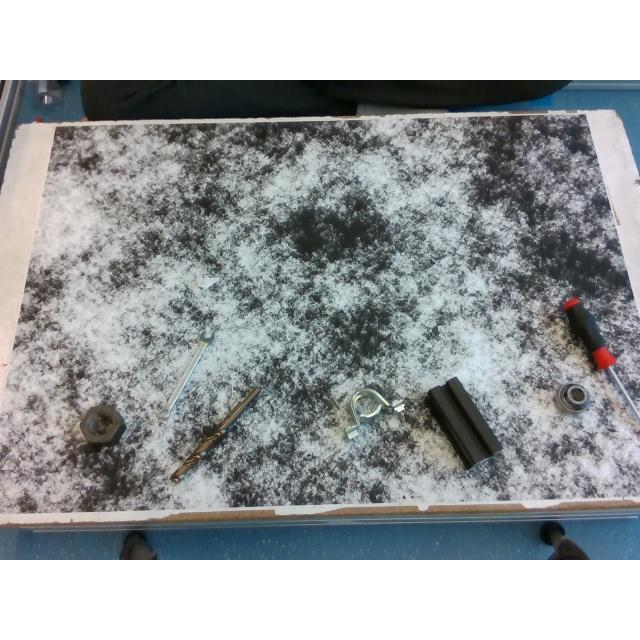Bearing2: (554, 384, 590, 412)
Drill: (169, 386, 261, 482)
Housing: (346, 388, 406, 439)
M30: (80, 404, 124, 448)
S40_40_B: (425, 377, 501, 467)
